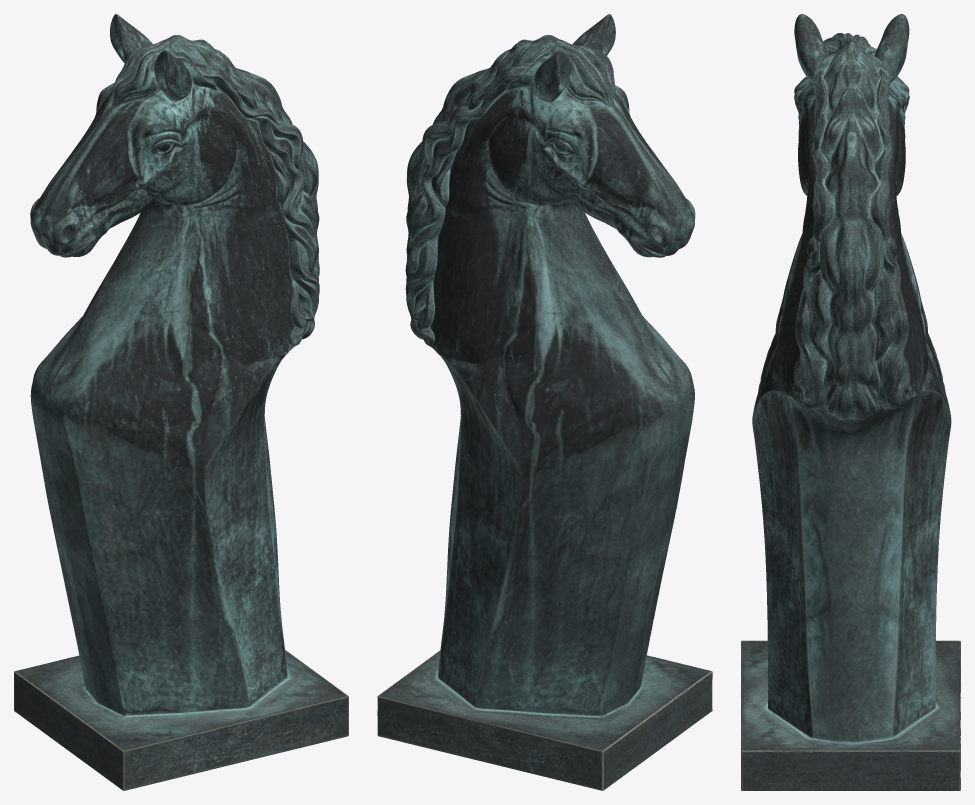
3 renders of one model, left to right at view 1: azimuth 30°, elevation 25°; view 2: azimuth 150°, elevation 25°; view 3: azimuth 270°, elevation 25°, orthographic.
Bounding box in the file's own units: 0.7915 × 1.9 × 0.5382.
1 material, 1 textured.
